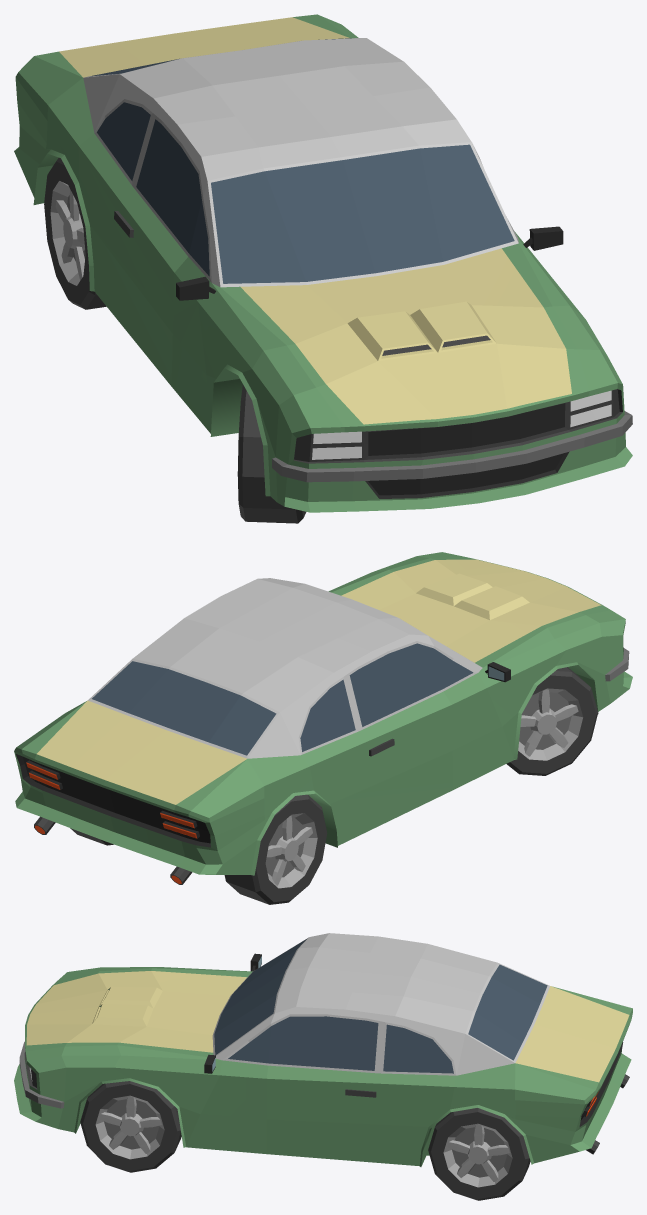
The model's file is abandoned_muscle.glb.
3 views of the same model, one above another, from view 1: azimuth 30°, elevation 25°; view 2: azimuth 150°, elevation 25°; view 3: azimuth 270°, elevation 25° (orthographic). The views are drawn at different scales.
Parts seen in each view (by area): view 1: N_Muscle Car_10, N_Muscle Car_10 BR Tire, N_Muscle Car_10 FR Tire; view 2: N_Muscle Car_10, N_Muscle Car_10 FR Tire, N_Muscle Car_10 BR Tire; view 3: N_Muscle Car_10, N_Muscle Car_10 BL Tire, N_Muscle Car_10 FL Tire.
Boxes of the visible parts, left/top/right/bottom form: N_Muscle Car_10: left=14, top=14, right=632, bottom=512; N_Muscle Car_10 BR Tire: left=44, top=157, right=106, bottom=309; N_Muscle Car_10 FR Tire: left=237, top=384, right=306, bottom=523; N_Muscle Car_10: left=14, top=552, right=632, bottom=884; N_Muscle Car_10 FR Tire: left=506, top=667, right=598, bottom=775; N_Muscle Car_10 BR Tire: left=224, top=794, right=327, bottom=904; N_Muscle Car_10: left=14, top=933, right=632, bottom=1166; N_Muscle Car_10 BL Tire: left=428, top=1108, right=530, bottom=1200; N_Muscle Car_10 FL Tire: left=80, top=1081, right=181, bottom=1172.
Bounding box in the file's own units: 2.24 × 1.25 × 4.1.
Materials: 2 (2 with a texture image).
